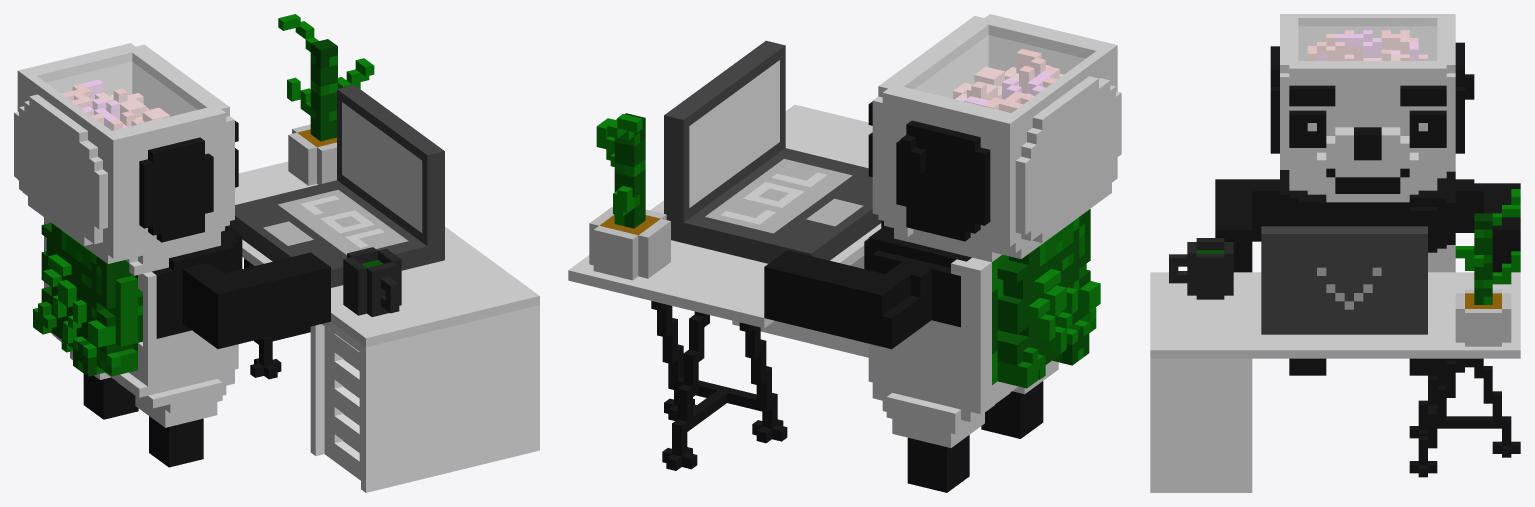
The model's file is thePanda.glb.
The picture shows the model from 3 angles, left to right: view 1: azimuth 30°, elevation 25°; view 2: azimuth 150°, elevation 25°; view 3: azimuth 270°, elevation 25°; orthographic projection. The views are drawn at different scales.
Parts seen in each view (by area): view 1: pandaWoBrain2, cap2; view 2: pandaWoBrain2, cap2; view 3: pandaWoBrain2, cap2.
Boxes of the visible parts, x1,y1,x2,y2 form: pandaWoBrain2: [14, 14, 539, 492]; cap2: [37, 53, 206, 130]; pandaWoBrain2: [568, 14, 1121, 492]; cap2: [904, 25, 1095, 112]; pandaWoBrain2: [1150, 14, 1520, 492]; cap2: [1298, 18, 1436, 60].
Size of what is drawn, in the model's own units: 4.2 by 3.8 by 4.
2 materials, 1 textured.
